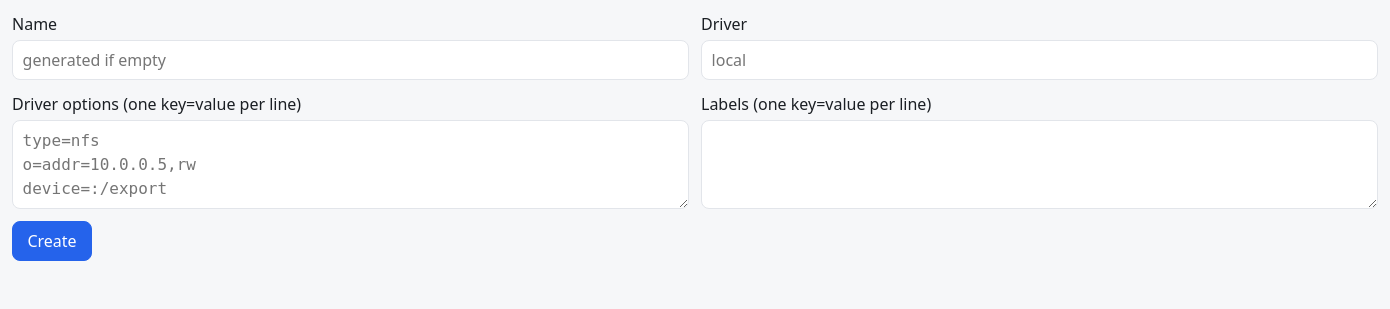
VolumeCreate › shows the API error
Type "nope" into the field named "driver" at (1040, 60), box top-left (701, 40), bottom-right (1378, 80)
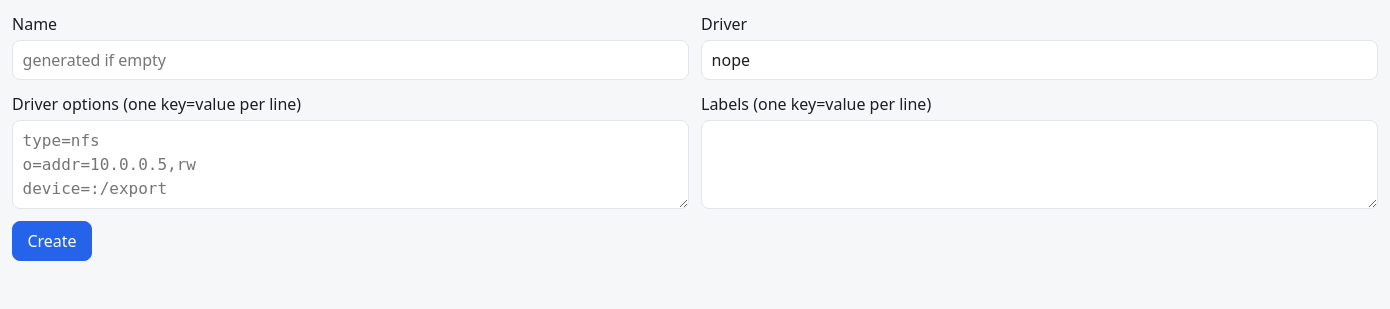
Submit the form
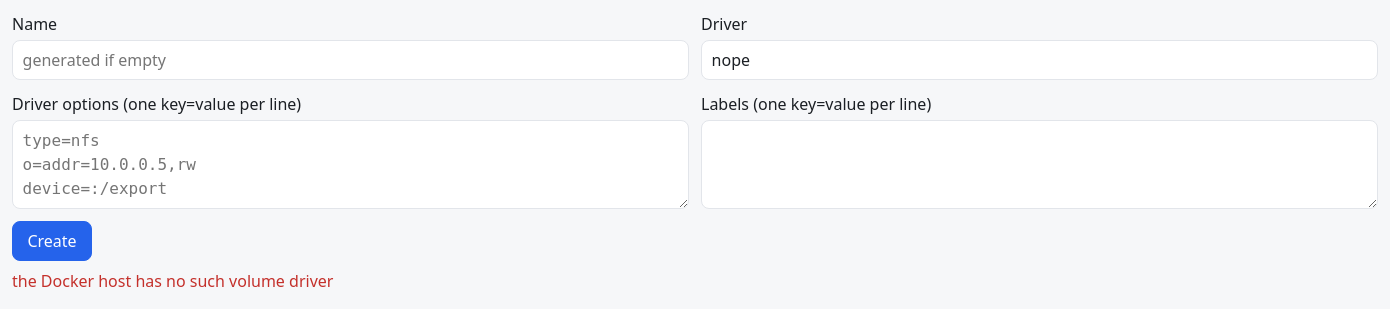
Now the message "the Docker host has no such volume driver" is shown, box top-left (12, 270), bottom-right (333, 292)
